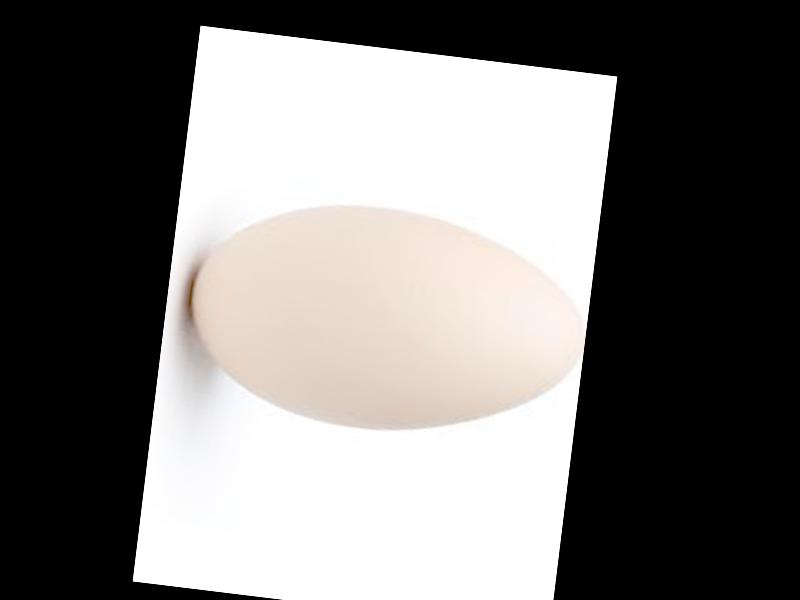Eggs: (173, 185, 595, 453)
